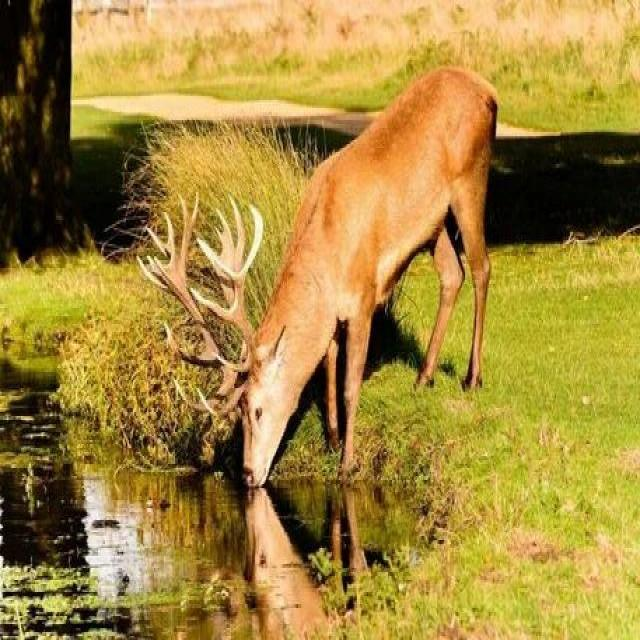deer: (145, 38, 640, 577)
